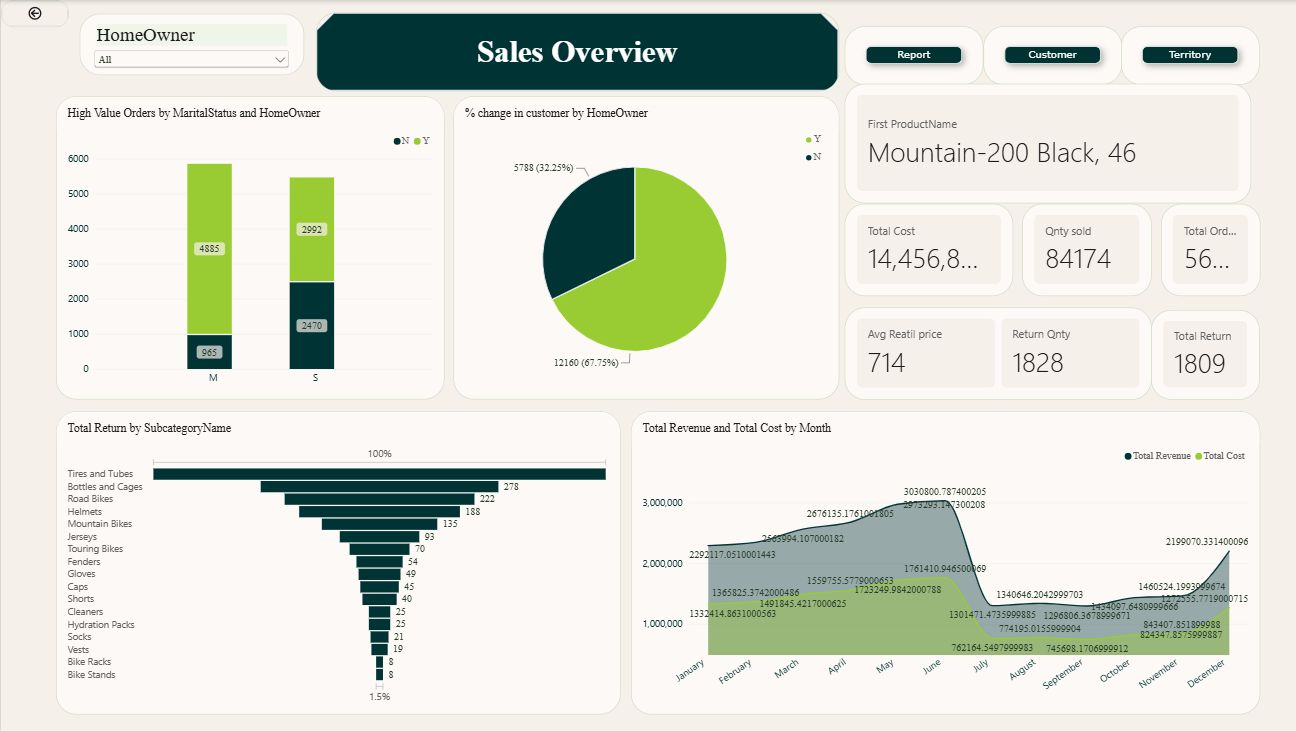

The dashboard page shown, as its layout file describes it:
{"tool":"powerbi","page":{"name":"Sales","canvas":[1920,1080],"ordinal":1},"visuals":[{"type":"actionButton","box":[0,0,100,40],"z":0},{"type":"textbox","box":[152,134,776,138],"z":1000},{"type":"shape","box":[464,18,770,116],"z":2000},{"type":"cardVisual","fields":{"Data":["Measure Table.Qnty sold"]},"box":[1504,300,190,136],"z":3000},{"type":"shape","box":[1446,38,204,86],"z":4000},{"type":"shape","box":[1650,38,204,86],"z":5000},{"type":"shape","box":[1242,38,204,86],"z":6000},{"type":"cardVisual","fields":{"Data":["Measure Table.Total Cost"]},"box":[1242,300,248,136],"z":7000},{"type":"cardVisual","fields":{"Data":["Measure Table.Total Return"]},"box":[1694,456,160,132],"z":8000},{"type":"cardVisual","fields":{"Data":["Measure Table.Total Orders"]},"box":[1708,300,146,136],"z":9000},{"type":"cardVisual","fields":{"Data":["Min(Product Lookup.ProductName)"]},"box":[1242,124,598,176],"z":10000},{"type":"cardVisual","fields":{"Data":["Measure Table.Avg Reatil price","Measure Table.Return Qnty"]},"box":[1242,452,452,136],"z":11000},{"type":"areaChart","fields":{"Category":["Calender Lookup.Date.Variation.Date Hierarchy.Month"],"Y":["Measure Table.Total Revenue","Measure Table.Total Cost"]},"box":[928,606,926,446],"z":12000},{"type":"pieChart","fields":{"Category":["Customer Lookup.HomeOwner"],"Y":["Measure Table.% change in customer"]},"box":[666,142,568,446],"z":13000},{"type":"lineStackedColumnComboChart","fields":{"Category":["Customer Lookup.MaritalStatus"],"Series":["Customer Lookup.HomeOwner"],"Y":["Measure Table.High Value Orders"]},"box":[80.3,142,572.2,446.7],"z":14000},{"type":"funnel","fields":{"Category":["Product Subcategories Lookup.SubcategoryName"],"Y":["Measure Table.Total Return"]},"box":[80.3,605.1,831.6,446.7],"z":15000},{"type":"slicer","fields":{"Values":["Customer Lookup.HomeOwner"]},"box":[116,20,330,90],"z":16000}]}

Visuals, with their boxes in screenshot pixels (x1, y1, x2, y2), scaled from the page's 1920x1080 canvas onto the 1296x731 screenshot:
actionButton: box(0, 0, 68, 27)
textbox: box(103, 91, 626, 184)
shape: box(313, 12, 833, 91)
cardVisual - Measure Table.Qnty sold: box(1015, 203, 1143, 295)
shape: box(976, 26, 1114, 84)
shape: box(1114, 26, 1251, 84)
shape: box(838, 26, 976, 84)
cardVisual - Measure Table.Total Cost: box(838, 203, 1006, 295)
cardVisual - Measure Table.Total Return: box(1143, 309, 1251, 398)
cardVisual - Measure Table.Total Orders: box(1153, 203, 1251, 295)
cardVisual - Min(Product Lookup.ProductName): box(838, 84, 1242, 203)
cardVisual - Measure Table.Avg Reatil price x Measure Table.Return Qnty: box(838, 306, 1143, 398)
areaChart - Calender Lookup.Date.Variation.Date Hierarchy.Month x Measure Table.Total Revenue: box(626, 410, 1251, 712)
pieChart - Customer Lookup.HomeOwner x Measure Table.% change in customer: box(450, 96, 833, 398)
lineStackedColumnComboChart - Customer Lookup.MaritalStatus x Customer Lookup.HomeOwner: box(54, 96, 440, 398)
funnel - Product Subcategories Lookup.SubcategoryName x Measure Table.Total Return: box(54, 410, 616, 712)
slicer - Customer Lookup.HomeOwner: box(78, 14, 301, 74)
